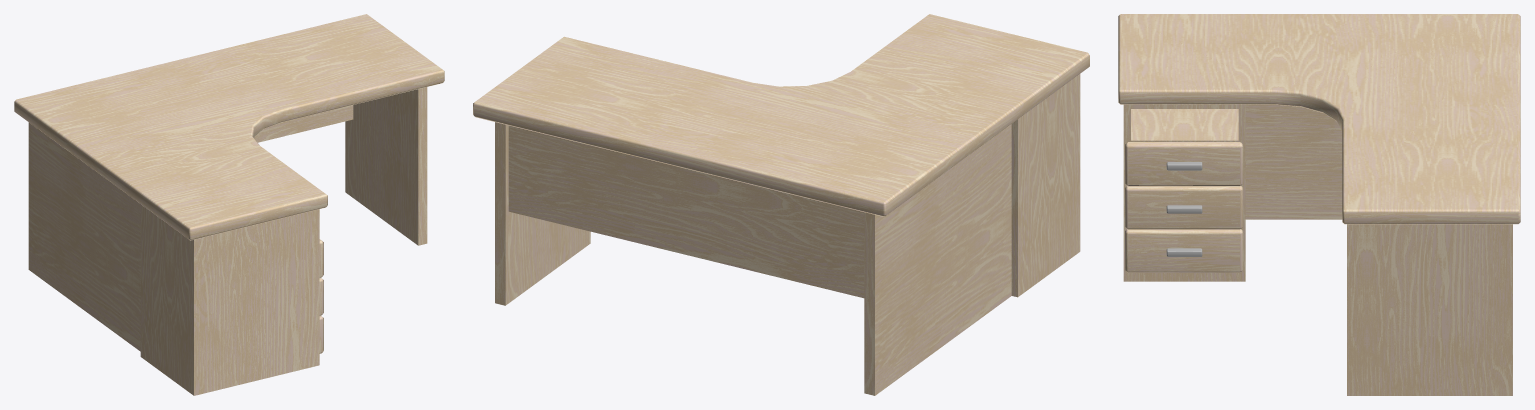
File: work_table_017.fbx
3 views of the same model, side by side, from view 1: azimuth 30°, elevation 25°; view 2: azimuth 150°, elevation 25°; view 3: azimuth 270°, elevation 25° (orthographic). The views are drawn at different scales.
Parts seen in each view (by area): view 1: work_table_017; view 2: work_table_017; view 3: work_table_017.
Part boxes in pixels (left/top/right/bottom): work_table_017: left=14, top=14, right=444, bottom=395; work_table_017: left=473, top=14, right=1089, bottom=395; work_table_017: left=1118, top=14, right=1520, bottom=395.
Size of the model in its own units: 202 by 174 by 92.9.
